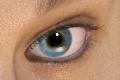eye: (41, 29, 71, 55)
